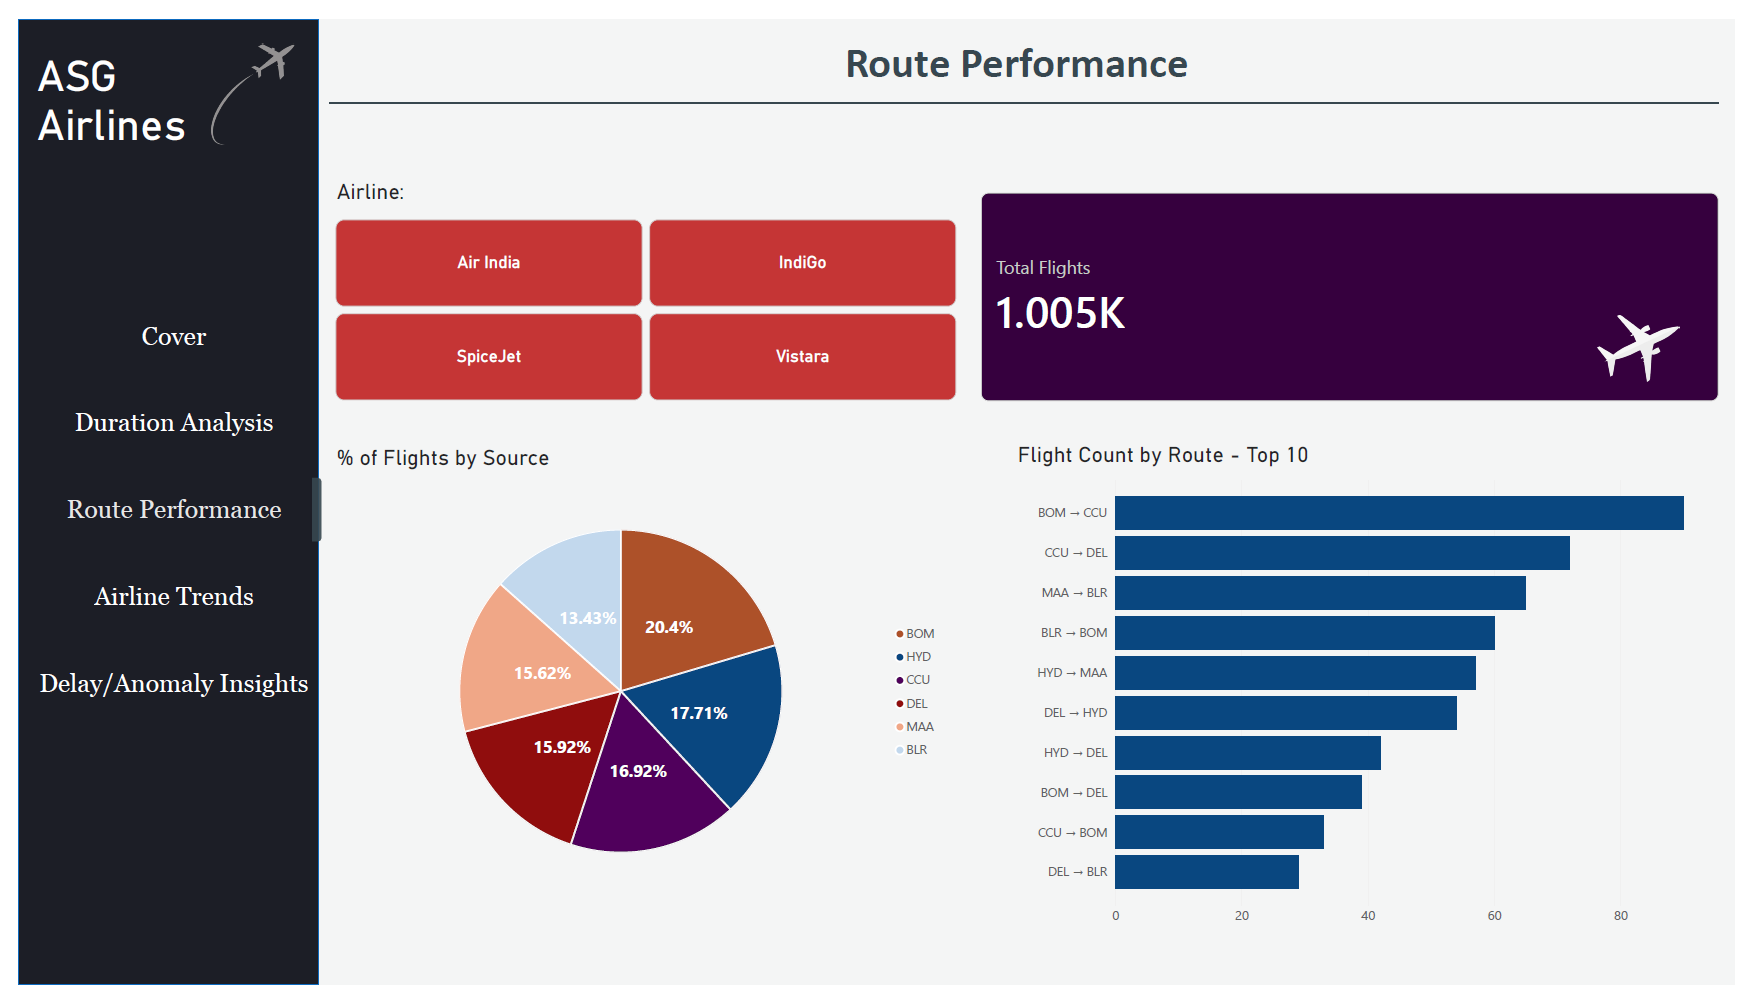

Layout of this report page (visuals, bound fields, positions):
{"tool":"powerbi","page":{"name":"Route Performance","canvas":[1920,1080],"ordinal":2},"visuals":[{"type":"clusteredBarChart","fields":{"Category":["flights_cleaned.route"],"Y":["CountNonNull(flights_cleaned.flight_id)"]},"box":[1117.7,493.5,769.4,540.3],"z":0},{"type":"pieChart","fields":{"Category":["flights_cleaned.source"],"Y":["CountNonNull(flights_cleaned.flight_id)"]},"box":[351.6,474.2,698.4,556.5],"z":1000},{"type":"shape","box":[0,0,335.6,1079.7],"z":2000},{"type":"textbox","box":[355.6,475.9,275.8,35.5],"z":3000},{"type":"textbox","box":[543.5,17.7,1146.8,62.9],"z":4000},{"type":"shape","box":[348.4,80.6,1553.2,24.2],"z":5000},{"type":"advancedSlicerVisual","fields":{"Values":["flights_cleaned.airline"]},"box":[354.8,224.2,695.2,203.2],"z":6000},{"type":"textbox","box":[1117.7,472.6,403.2,35.5],"z":7000},{"type":"cardVisual","fields":{"Data":["CountNonNull(flights_cleaned.flight_id)"]},"box":[1077.4,193.5,824.2,233.9],"z":8000},{"type":"textbox","box":[356.5,179,375.8,50],"z":9000},{"type":"image","box":[1722.6,330.6,179,74.2],"z":10000},{"type":"textbox","box":[21,35.5,204.8,116.1],"z":11000},{"type":"image","box":[193.5,27.4,135.5,112.9],"z":12000},{"type":"pageNavigator","box":[0,309.7,348.4,535.5],"z":13000}]}

Visuals, with their boxes in screenshot pixels (x1, y1, x2, y2), scaled from the page's 1920x1080 canvas onto the 1751x1004 screenshot:
clusteredBarChart - flights_cleaned.route x CountNonNull(flights_cleaned.flight_id): x1=1019 y1=459 x2=1721 y2=961
pieChart - flights_cleaned.source x CountNonNull(flights_cleaned.flight_id): x1=321 y1=441 x2=958 y2=958
shape: x1=0 y1=0 x2=306 y2=1003
textbox: x1=324 y1=442 x2=576 y2=475
textbox: x1=496 y1=16 x2=1542 y2=75
shape: x1=318 y1=75 x2=1734 y2=97
advancedSlicerVisual - flights_cleaned.airline: x1=324 y1=208 x2=958 y2=397
textbox: x1=1019 y1=439 x2=1387 y2=472
cardVisual - CountNonNull(flights_cleaned.flight_id): x1=983 y1=180 x2=1734 y2=397
textbox: x1=325 y1=166 x2=668 y2=213
image: x1=1571 y1=307 x2=1734 y2=376
textbox: x1=19 y1=33 x2=206 y2=141
image: x1=176 y1=25 x2=300 y2=130
pageNavigator: x1=0 y1=288 x2=318 y2=786
